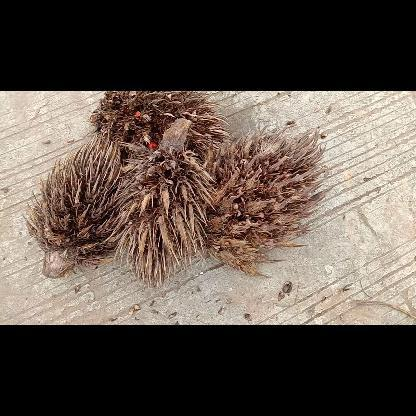Janjang kosong: (216, 127, 326, 277), (124, 118, 214, 286), (24, 135, 124, 277), (90, 90, 231, 162)
